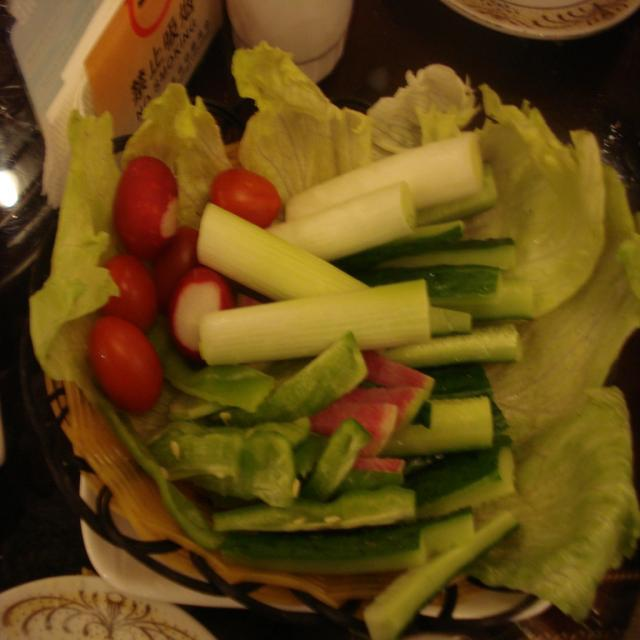Tomato: (83, 309, 159, 411), (115, 154, 183, 256), (167, 267, 234, 353), (142, 220, 202, 302), (101, 251, 157, 329), (213, 165, 285, 225)
